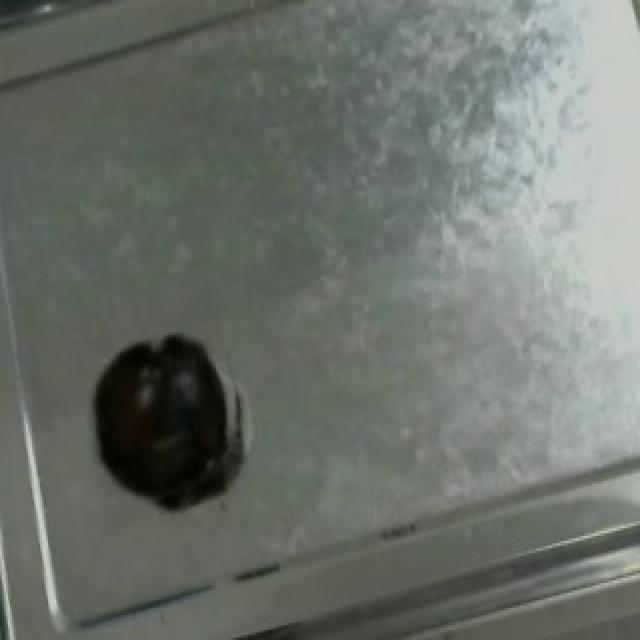Fruit: (78, 332, 238, 516)
